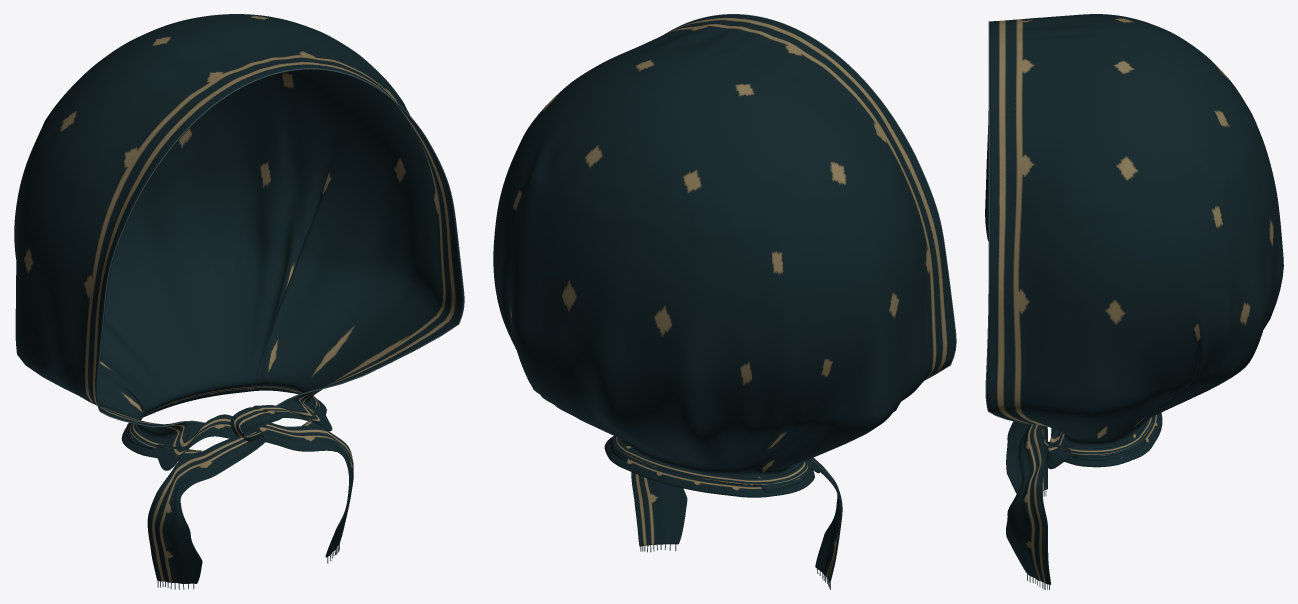
The model's file is Feminine-tank-pashmina243-headgear.glb.
The picture shows the model from 3 angles, left to right: view 1: azimuth 30°, elevation 25°; view 2: azimuth 150°, elevation 25°; view 3: azimuth 270°, elevation 25°; orthographic projection. The views are drawn at different scales.
Parts seen in each view (by area): view 1: 226 headgear / Headwear / continuous woven pashmina239, 226 headgear / Headwear / face edge239; view 2: 226 headgear / Headwear / continuous woven pashmina239, 226 headgear / Headwear / face edge239; view 3: 226 headgear / Headwear / continuous woven pashmina239, 226 headgear / Headwear / face edge239.
Boxes of the visible parts, <box> form: 226 headgear / Headwear / continuous woven pashmina239: <box>14,14,463,583</box>; 226 headgear / Headwear / face edge239: <box>96,68,464,427</box>; 226 headgear / Headwear / continuous woven pashmina239: <box>493,14,955,583</box>; 226 headgear / Headwear / face edge239: <box>664,14,956,379</box>; 226 headgear / Headwear / continuous woven pashmina239: <box>985,14,1283,584</box>; 226 headgear / Headwear / face edge239: <box>985,21,1035,424</box>.
Size of the model in its own units: 1.02 by 1.35 by 0.7116.
3 materials, 1 textured.
